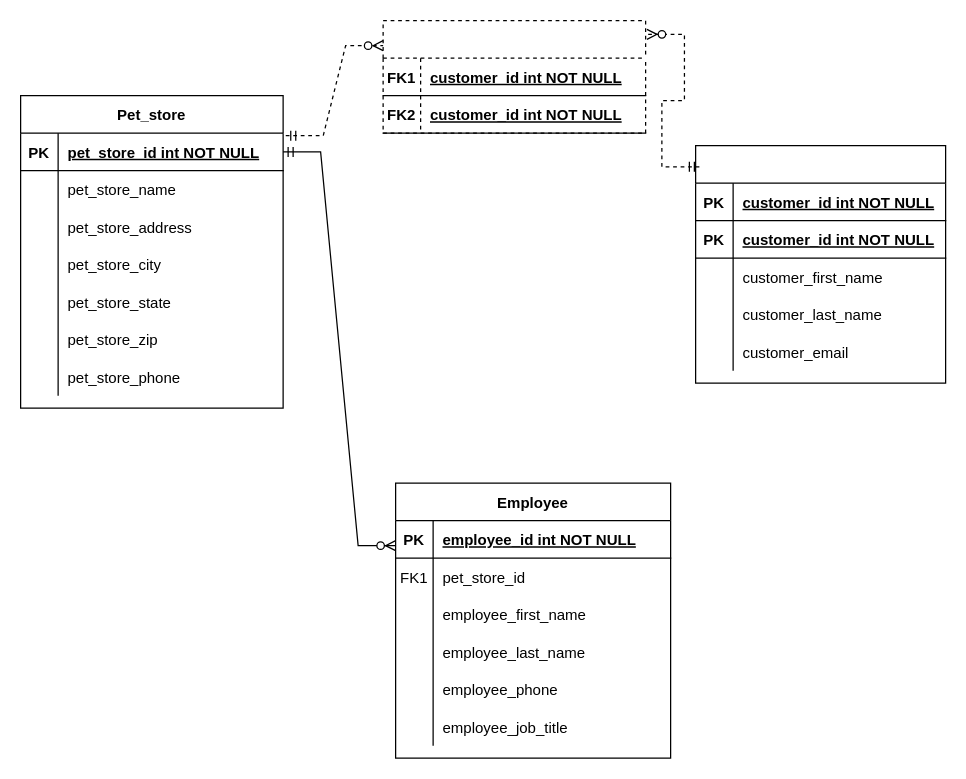
Image size: 966x779. Some labels were removed from this diagram. The shapes that lost their labels are listed below. From the top down, each one's box as (x1, y1, x2, y2) in pixels, then its label:
(382, 19, 646, 133): Pet_Store_Customers
(694, 144, 946, 383): Customers
